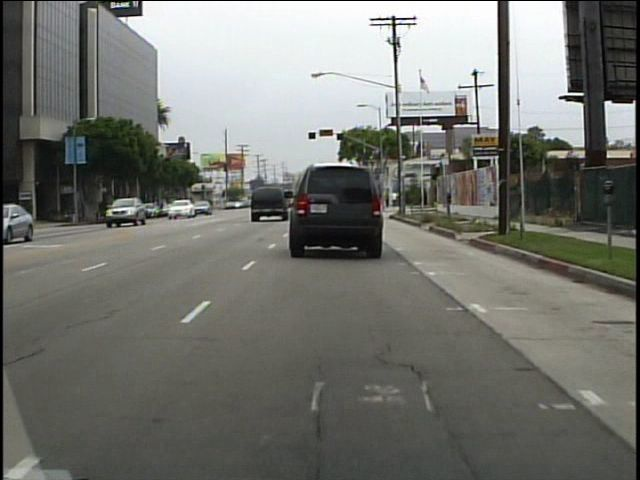person: (391, 188, 400, 208)
